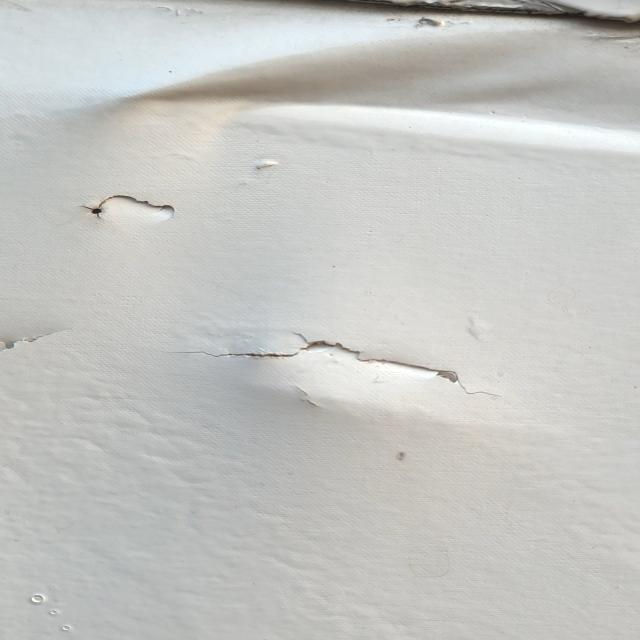Dents or Deformation: (109, 1, 640, 155)
Scratches: (193, 317, 514, 396), (64, 185, 209, 232), (1, 320, 86, 366)
